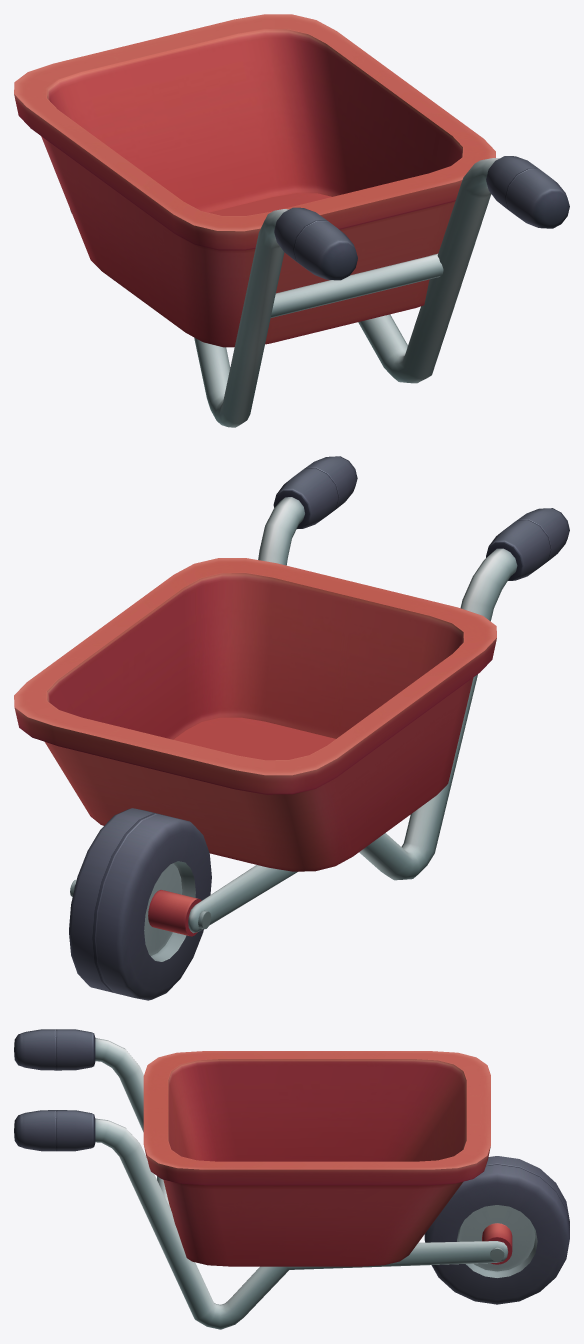
File: 宝宝巴士-飞行器风波-手推车.FBX
The picture shows the model from 3 angles, top to bottom: view 1: azimuth 30°, elevation 25°; view 2: azimuth 150°, elevation 25°; view 3: azimuth 270°, elevation 25°; orthographic projection. The views are drawn at different scales.
Parts seen in each view (by area): view 1: 宝宝巴士-飞行器风波-手推车; view 2: 宝宝巴士-飞行器风波-手推车; view 3: 宝宝巴士-飞行器风波-手推车.
Part boxes in pixels (bbox=[...]): 宝宝巴士-飞行器风波-手推车: bbox=[14, 14, 569, 427]; 宝宝巴士-飞行器风波-手推车: bbox=[14, 456, 569, 1000]; 宝宝巴士-飞行器风波-手推车: bbox=[14, 1029, 569, 1329].
Bounding box in the file's own units: 79.45 × 70.29 × 158.
